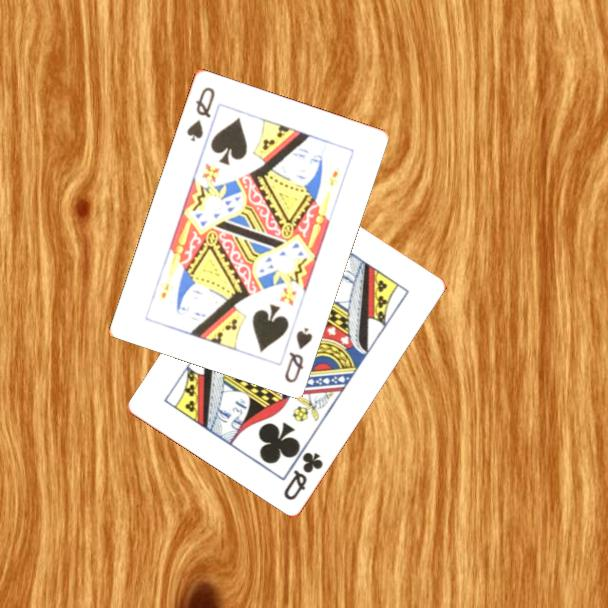c12: (280, 449, 326, 504)
s12: (183, 83, 218, 144), (281, 323, 315, 385)
